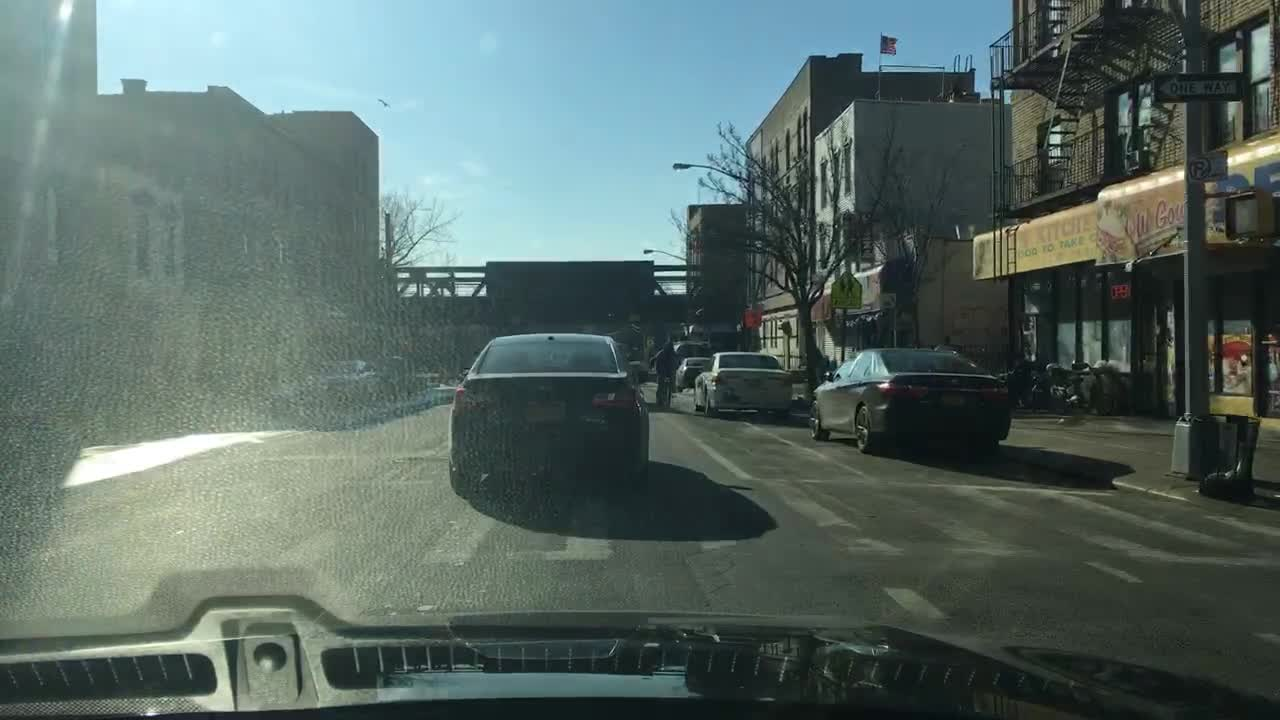bike: (1020, 369, 1088, 415), (1051, 356, 1112, 406), (656, 373, 677, 415)
car: (446, 331, 649, 500), (805, 341, 1011, 455), (693, 350, 796, 416), (308, 359, 376, 404), (668, 332, 716, 369), (369, 360, 404, 397), (674, 359, 707, 387), (399, 360, 420, 395)
rider: (651, 334, 681, 409)
traffic light: (1223, 193, 1268, 243)
traffic sign: (1156, 72, 1244, 102), (827, 269, 864, 310), (1188, 152, 1230, 184), (742, 306, 763, 331)
